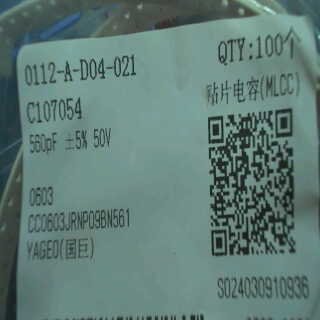560pF: (25, 132, 62, 156)
